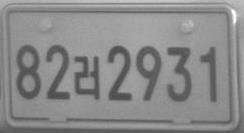1: (197, 45, 225, 103)
2: (44, 43, 71, 100), (106, 44, 133, 101)
3: (166, 46, 192, 102)
8: (14, 43, 42, 100)
9: (134, 44, 162, 100)
러: (73, 54, 100, 100)
